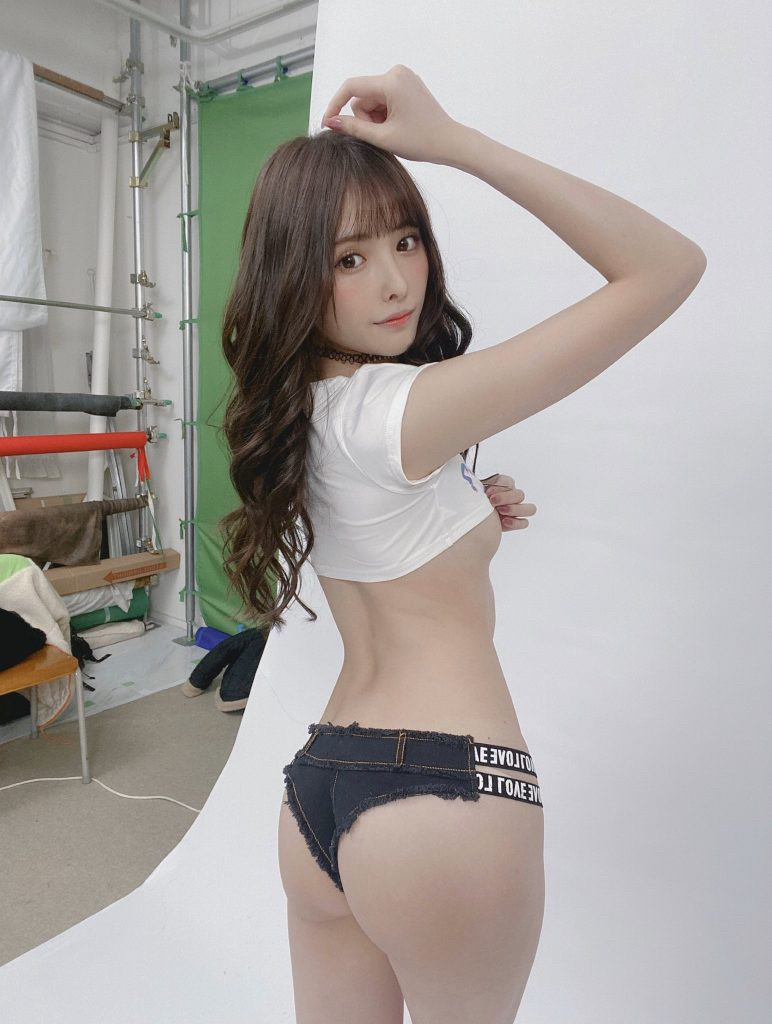people: (228, 125, 564, 1024)
